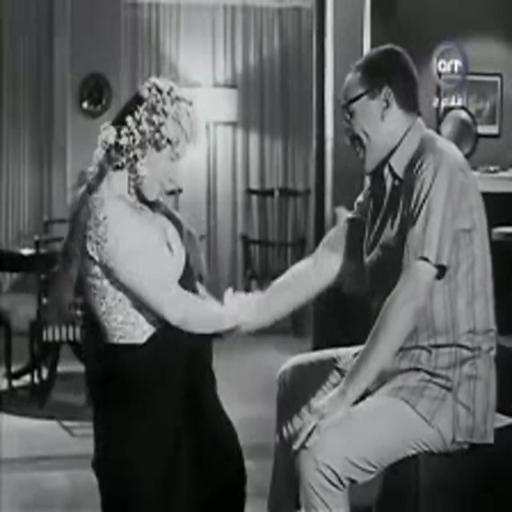nao-violencia: (58, 40, 506, 512)
